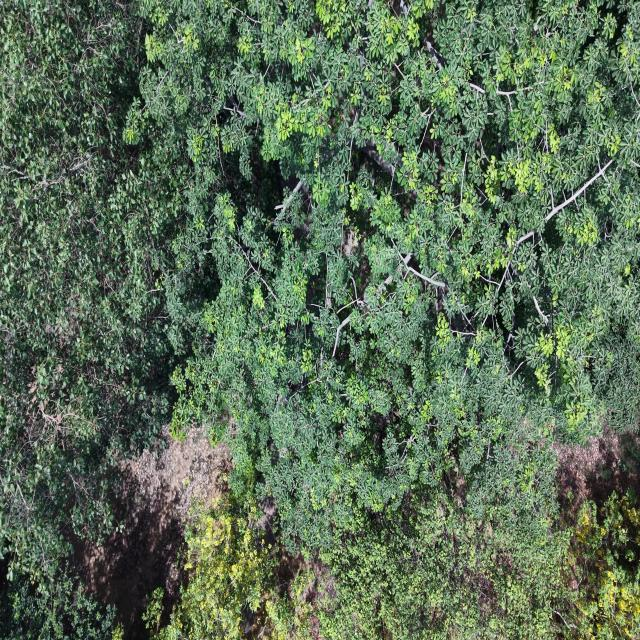DRY_AREA: (74, 429, 230, 639), (74, 429, 229, 639), (555, 427, 639, 524)
VEGETATION_TREE: (0, 0, 639, 639), (126, 0, 639, 637), (0, 0, 214, 637), (566, 491, 639, 639), (0, 563, 122, 639)
